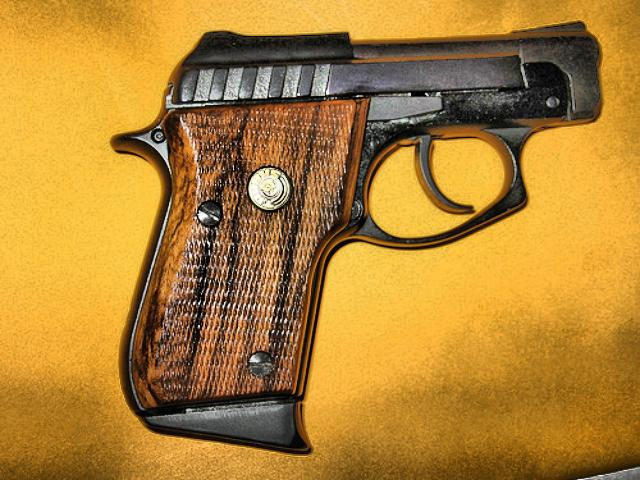pistol: (104, 18, 600, 454)
